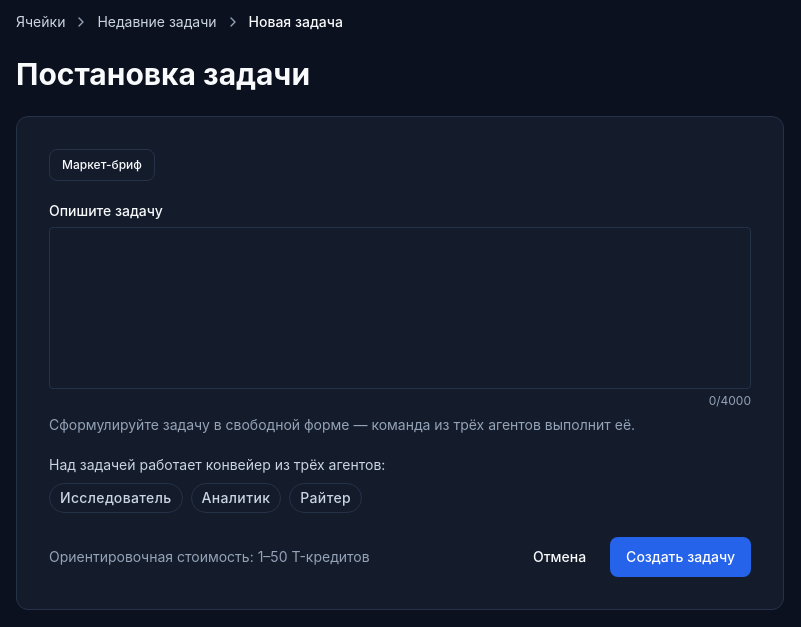
TaskSubmitPage › shows a validation error when submitting empty
Click the button "Создать задачу".
click(681, 557)  # box [610, 537, 751, 577]
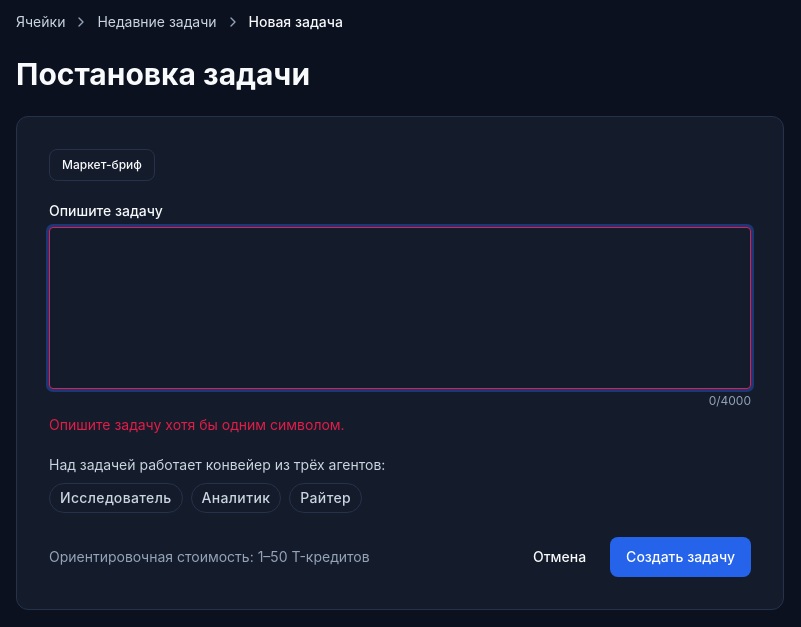
Now the message "Опишите задачу хотя бы одним символом." is shown, box [49, 416, 345, 433]
